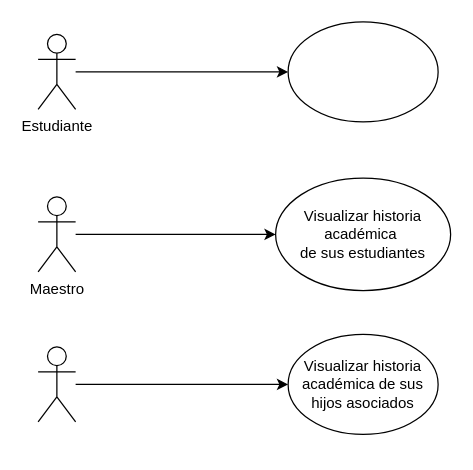
Some shapes in this 473 by 470 pixel diagram are drawn without their labels. The shapes that lost their labels are listed below. From the top down, each one's centre as x and y in pixels, then its label:
At (362,71): "Visualizar historia académica del mismo".
At (56,384): "Padre".
